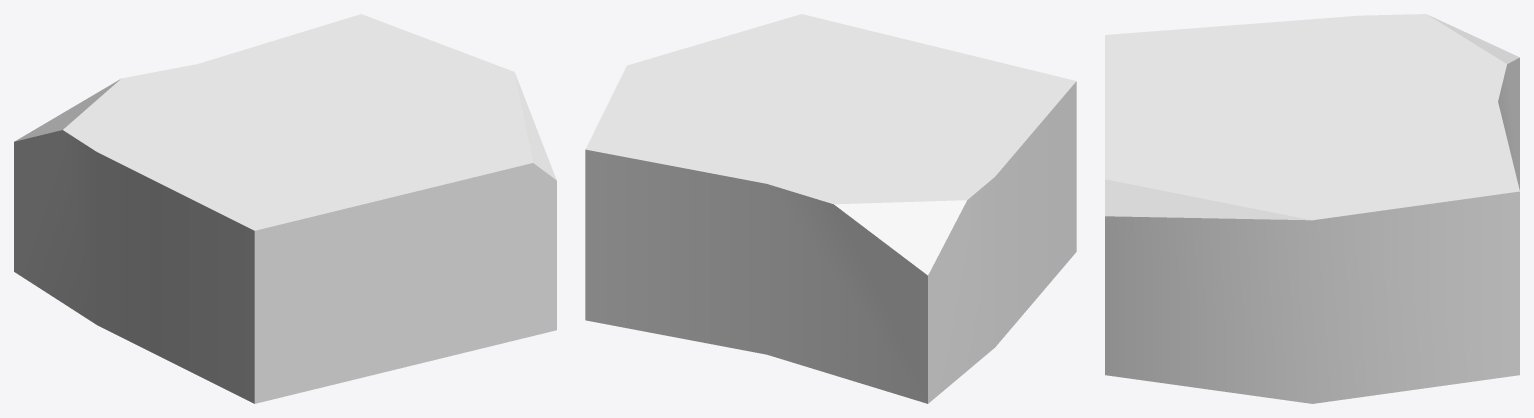
Rendered from Rock 21.FBX.
The picture shows the model from 3 angles, left to right: view 1: azimuth 30°, elevation 25°; view 2: azimuth 150°, elevation 25°; view 3: azimuth 270°, elevation 25°; orthographic projection. The views are drawn at different scales.
Parts seen in each view (by area): view 1: Box001; view 2: Box001; view 3: Box001.
Boxes of the visible parts, box(x1,y1,x2,y2) form: Box001: box(14, 14, 556, 403); Box001: box(585, 14, 1076, 403); Box001: box(1105, 14, 1519, 403).
Bounding box in the file's own units: 26.21 × 10.76 × 22.03.
